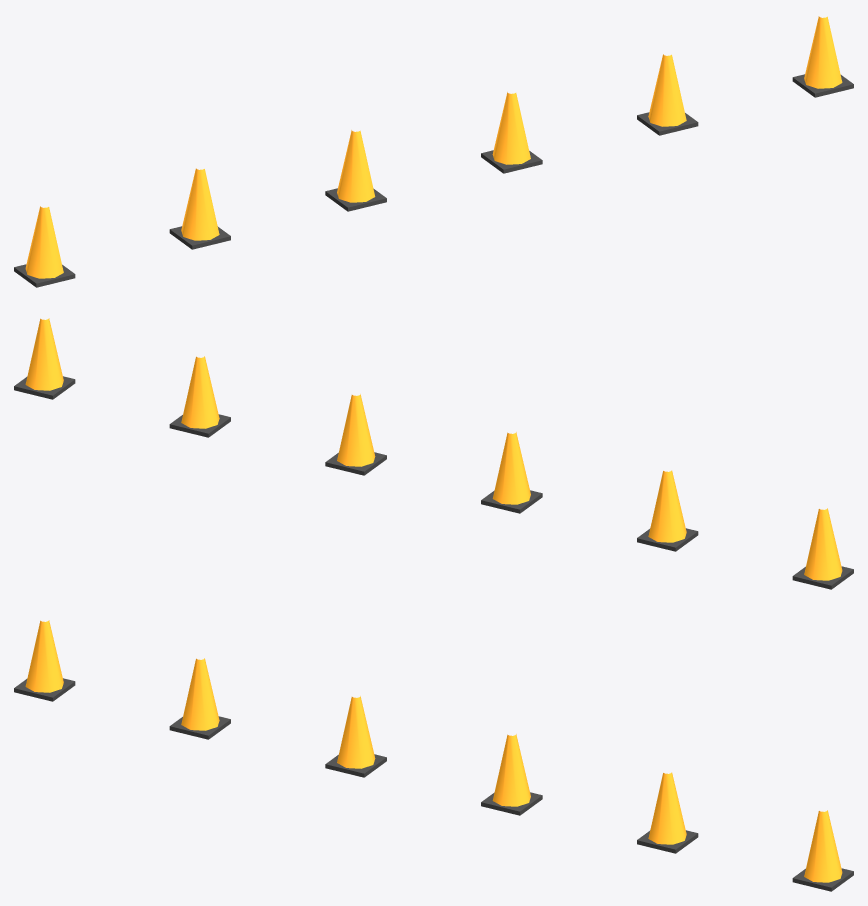
The model's file is cone_row.glb.
The picture shows the model from 3 angles, top to bottom: view 1: azimuth 30°, elevation 25°; view 2: azimuth 150°, elevation 25°; view 3: azimuth 330°, elevation 25°; orthographic projection.
Parts seen in each view (by area): view 1: cone_row; view 2: cone_row; view 3: cone_row.
Boxes of the visible parts, x1,y1,x2,y2 form: cone_row: (14,16,853,287); cone_row: (14,318,853,589); cone_row: (14,620,853,891).
Size of the model in its own units: 8.4 by 0.675 by 0.4.
